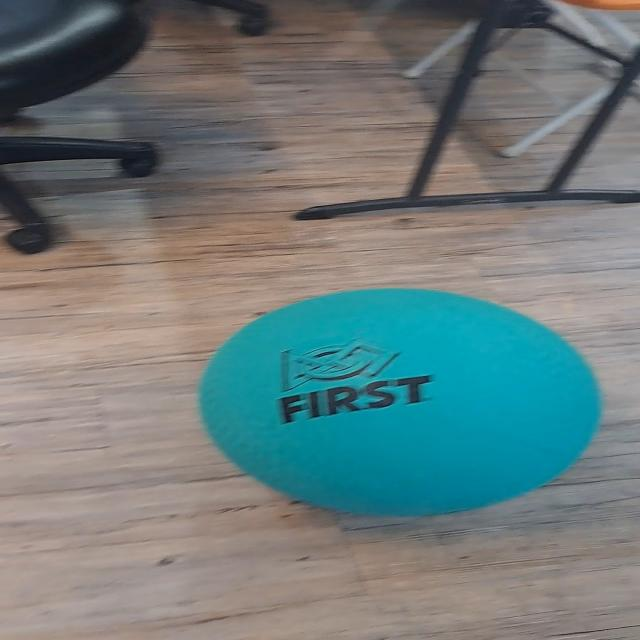ALGAE: (194, 286, 604, 518)
